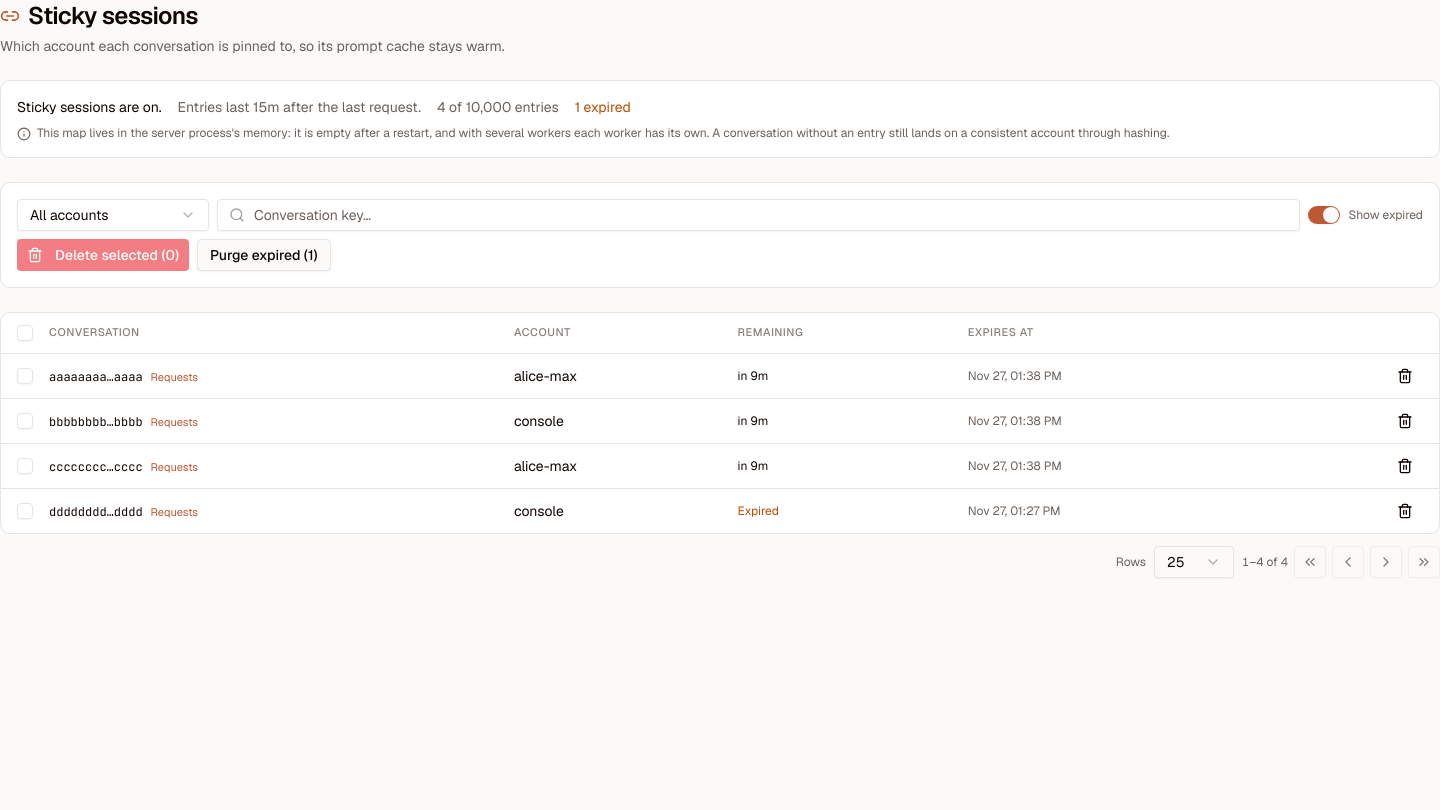
StickySessionsPage › purges expired entries and hides them on request
Check: the table with test id "sticky-table" is shown, box 1,313 -> 1439,532
Click the switch named "Show expired".
click(1324, 215)  # box 1308,206 -> 1340,224
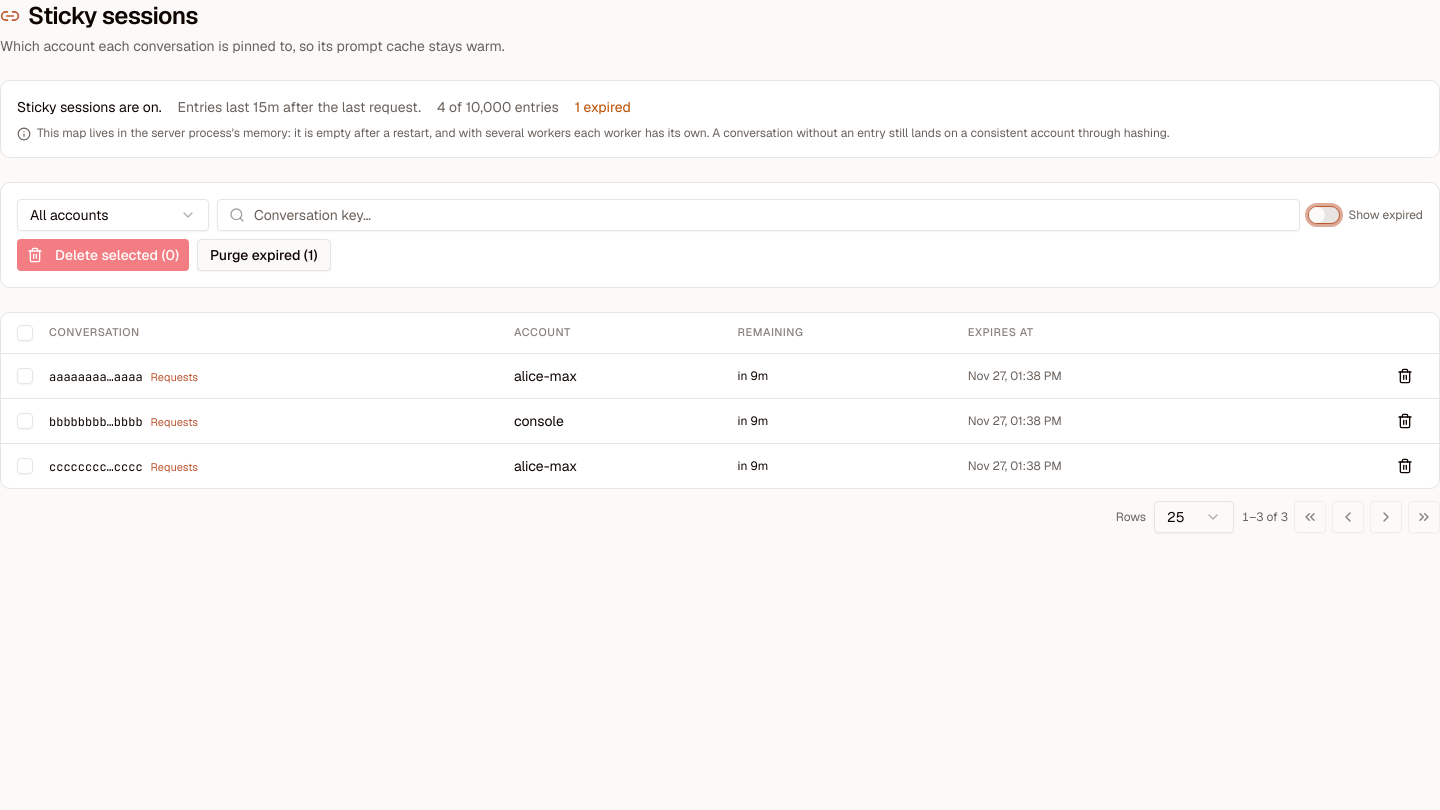
Check: the row with test id "sticky-row-dddddddd…dddd" is gone
Click the button "Purge expired (1)".
click(264, 255)  # box 197,239 -> 331,271
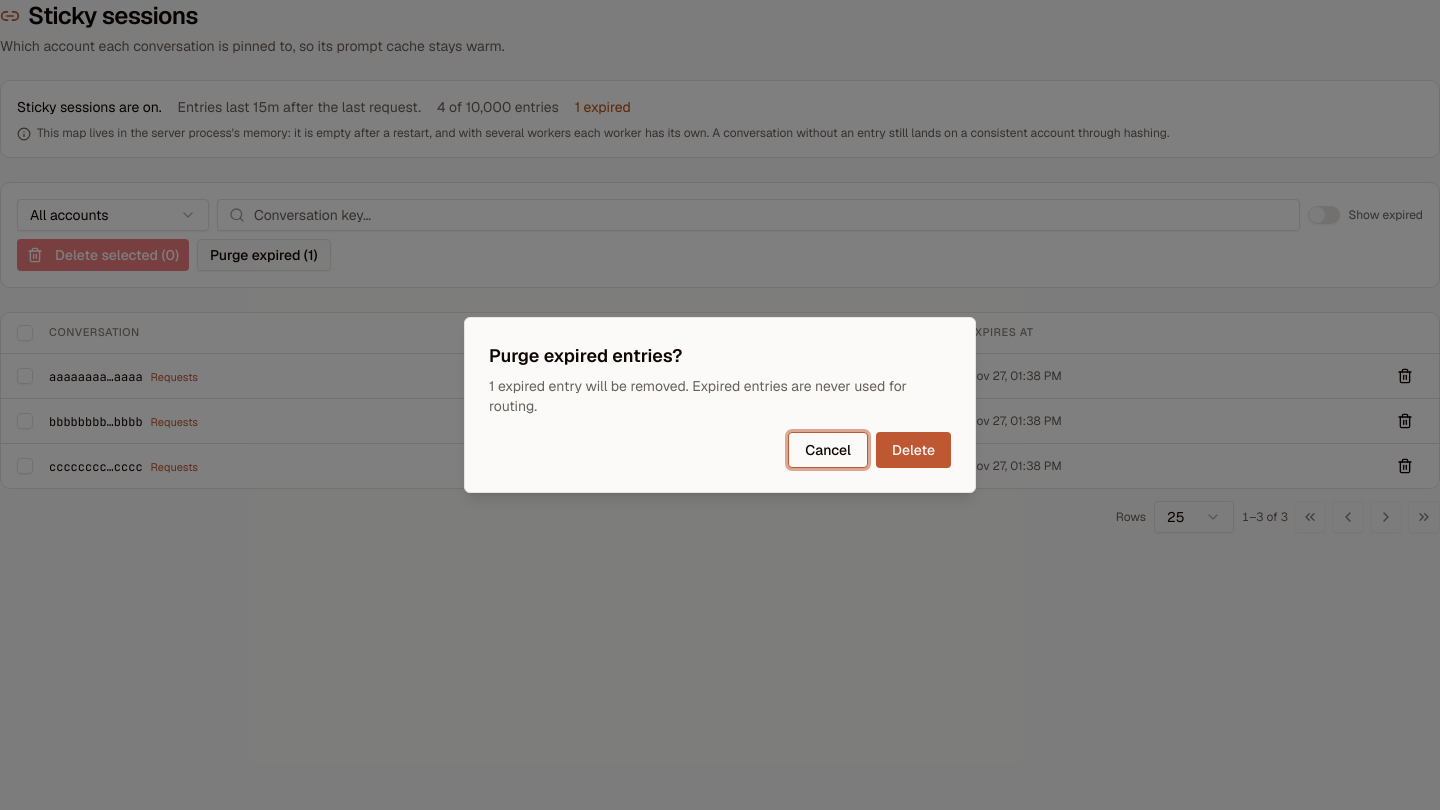
Click the button "Delete".
click(913, 450)  # box 876,432 -> 951,468
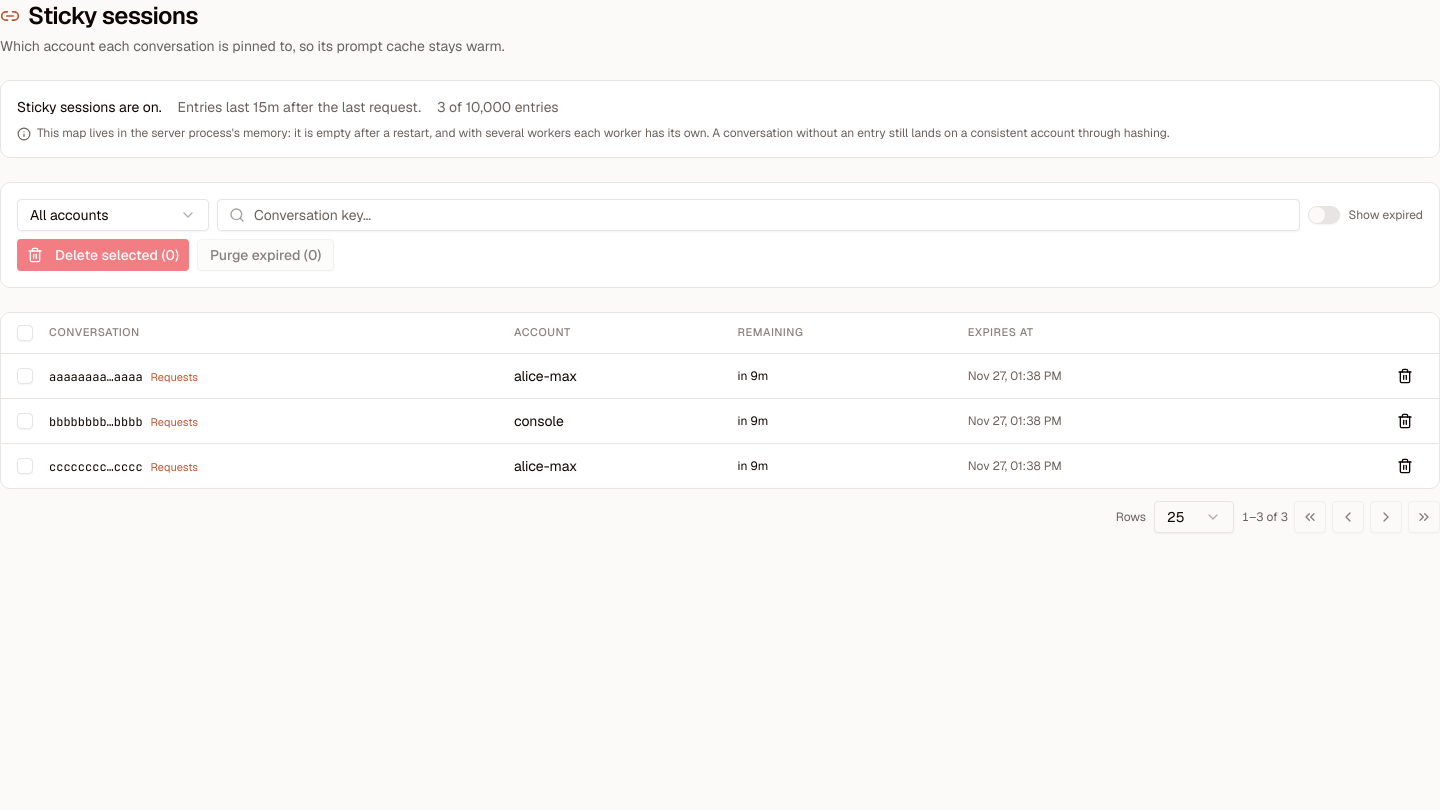
Check: the dialog is gone
Check: the button "Purge expired (0)" is disabled, box 197,239 -> 334,271
